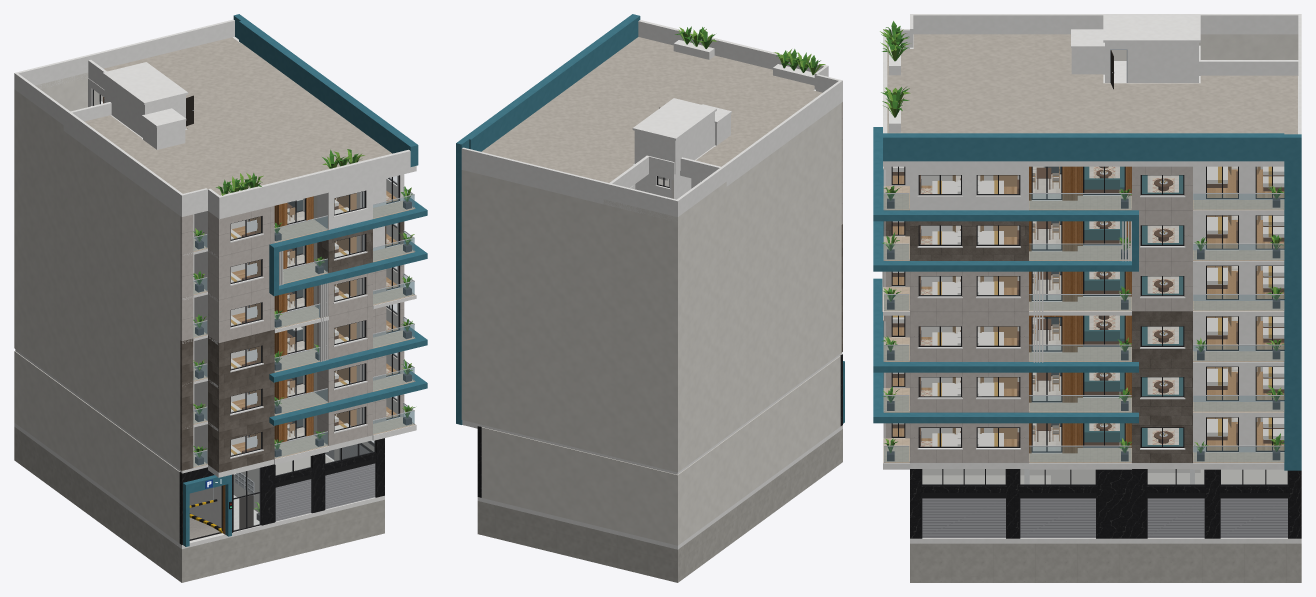
File: Imara_Teal_R6.glb
The picture shows the model from 3 angles, left to right: view 1: azimuth 30°, elevation 25°; view 2: azimuth 150°, elevation 25°; view 3: azimuth 270°, elevation 25°; orthographic projection. The views are drawn at different scales.
Visible parts, largest first — view 1: TOIT_Roof_Concrete, TOIT_Render_White, SS_Parking_Concrete, RDC_Party_Walls, N6_Party_Walls, N2_Party_Walls, N1_Party_Walls, N5_Party_Walls, N3_Party_Walls, N4_Party_Walls, TOIT_Teal_Frames, N4_Facade_Panels_Beige (+54 smaller); view 2: RDC_Party_Walls, TOIT_Roof_Concrete, TOIT_Render_White, N3_Party_Walls, N5_Party_Walls, N1_Party_Walls, N4_Party_Walls, N2_Party_Walls, N6_Party_Walls, SS_Parking_Concrete, TOIT_Teal_Frames, RDC_Render_White (+6 smaller); view 3: TOIT_Roof_Concrete, TOIT_Render_White, SS_Parking_Concrete, TOIT_Teal_Frames, RDC_Shutters_Metal, RDC_Marble_Black_RDC, N3_Window_Glass, N6_Window_Glass, N2_Window_Glass, N1_Window_Glass, N5_Window_Glass, N6_Render_White (+84 smaller).
Boxes of the visible parts, <box> form: TOIT_Roof_Concrete: <box>84,37,391,195</box>; TOIT_Render_White: <box>14,19,416,219</box>; SS_Parking_Concrete: <box>14,427,384,582</box>; RDC_Party_Walls: <box>14,351,179,543</box>; N6_Party_Walls: <box>14,78,180,253</box>; N2_Party_Walls: <box>14,262,180,426</box>; N1_Party_Walls: <box>14,305,180,469</box>; N5_Party_Walls: <box>14,132,180,296</box>; N3_Party_Walls: <box>14,219,180,382</box>; N4_Party_Walls: <box>14,176,180,339</box>; TOIT_Teal_Frames: <box>233,14,418,166</box>; N4_Facade_Panels_Beige: <box>180,264,404,342</box>; RDC_Party_Walls: <box>481,356,840,545</box>; TOIT_Roof_Concrete: <box>481,37,822,182</box>; TOIT_Render_White: <box>461,20,842,221</box>; N3_Party_Walls: <box>461,225,841,387</box>; N5_Party_Walls: <box>461,140,841,302</box>; N1_Party_Walls: <box>461,310,841,472</box>; N4_Party_Walls: <box>461,183,841,344</box>; N2_Party_Walls: <box>461,268,841,429</box>; N6_Party_Walls: <box>461,103,841,259</box>; SS_Parking_Concrete: <box>477,429,842,582</box>; TOIT_Teal_Frames: <box>456,14,640,164</box>; RDC_Render_White: <box>477,425,842,549</box>; TOIT_Roof_Concrete: <box>887,34,1297,134</box>; TOIT_Render_White: <box>883,14,1301,166</box>; SS_Parking_Concrete: <box>910,543,1301,582</box>; TOIT_Teal_Frames: <box>883,133,1301,161</box>; RDC_Shutters_Metal: <box>922,498,1287,537</box>; RDC_Marble_Black_RDC: <box>910,469,1301,538</box>; N3_Window_Glass: <box>893,316,1283,349</box>; N6_Window_Glass: <box>893,167,1283,198</box>; N2_Window_Glass: <box>893,367,1283,400</box>; N1_Window_Glass: <box>893,418,1283,451</box>; N5_Window_Glass: <box>893,216,1283,248</box>; N6_Render_White: <box>883,166,1284,214</box>.
Bounding box in the file's own units: 17.9 × 30.25 × 24.6.
55 materials, 19 textured.
